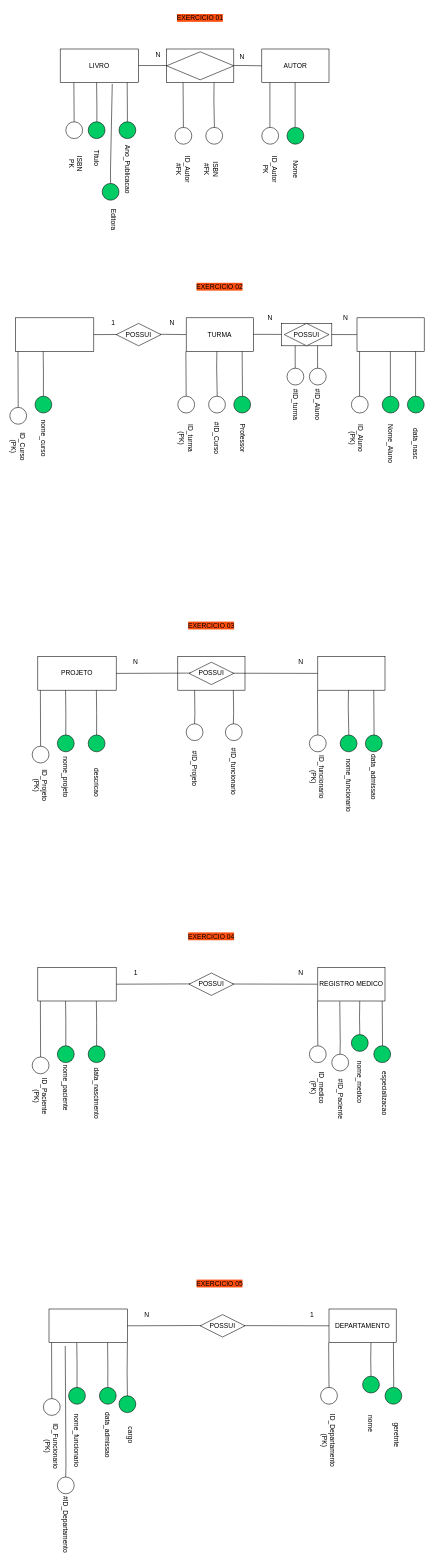
Image size: 437x1562. Some labels were removed from this diagram. The shapes that lost their labels are listed below. From the top down, each one's box as (x1, y1, x2, y2) in pixels, then its label:
(166, 51, 234, 80): Escrito
(15, 317, 94, 351): CURSOS
(356, 317, 424, 351): ALUNOS
(317, 656, 385, 690): FUNCIONARIOS
(37, 967, 116, 1001): PACIENTE
(48, 1308, 127, 1343): FUNCIONARIO
